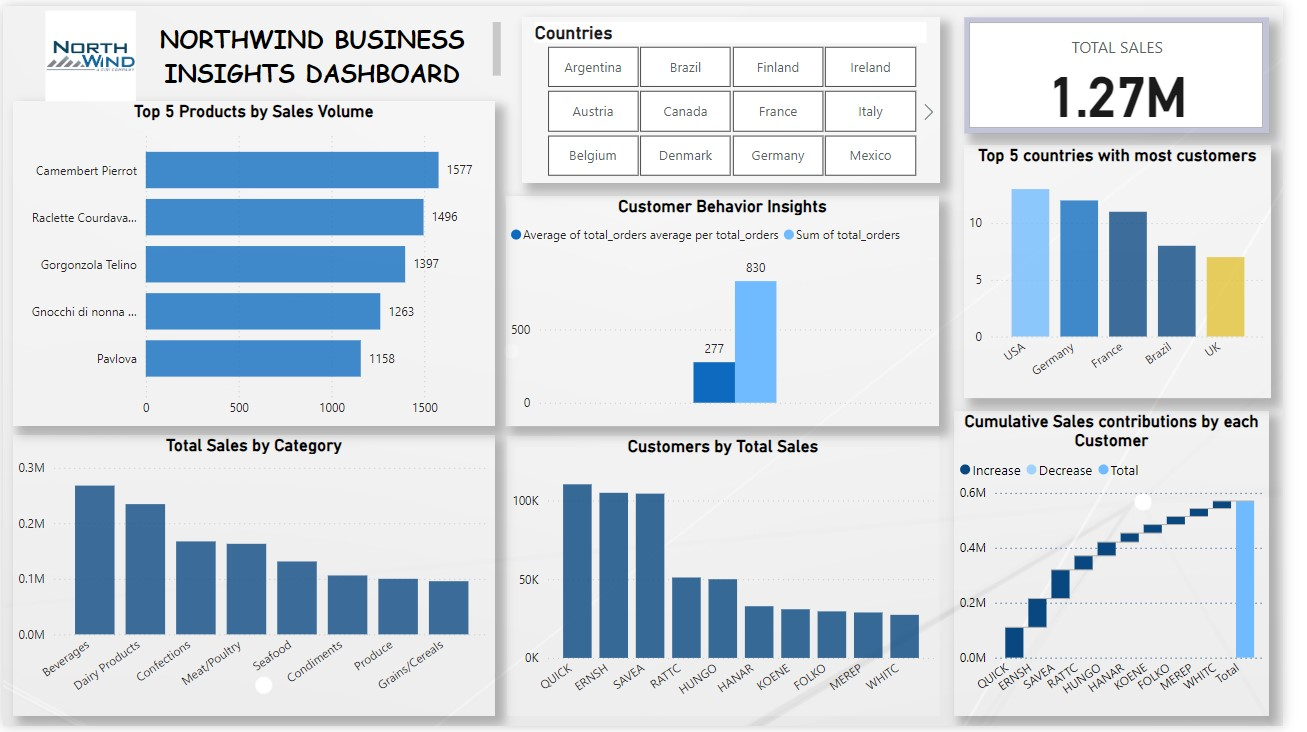

What the dashboard file says about the page in this screenshot:
{"tool":"powerbi","page":{"name":"Page 1","canvas":[1280,720],"ordinal":0},"visuals":[{"type":"cardVisual","title":"Total Sales","fields":{"Data":["Sum(total sales revenue by prod and category.total_sales)"]},"box":[961.1,11.5,304.6,116.4],"z":0},{"type":"barChart","title":"Top 5 Products by Sales Volume","fields":{"Category":["Top 5 Products by Sales Volume.product_name"],"Y":["Sum(Top 5 Products by Sales Volume.total_quantity_sold)"]},"box":[10,95.5,481.8,325],"z":1000},{"type":"columnChart","title":"Total Sales by Category","fields":{"Y":["Sum(total sales revenue by prod and category.total_sales)"],"Category":["total sales revenue by prod and category.category_name"]},"box":[10,429,481.8,280.8],"z":2000},{"type":"clusteredColumnChart","title":"Top 5 countries with most customers","fields":{"Y":["Sum(5 countries with most customers.customer_count)"],"Category":["5 countries with most customers.country"]},"box":[960.7,139.3,306.2,254],"z":3000},{"type":"clusteredColumnChart","title":"Customer Behavior Insights","fields":{"Y":["shipping cost and duration by the  shipper.Average of total_orders average per total_orders","Sum(shipping cost and duration by the  shipper.total_orders)"]},"box":[502.1,190.1,433.9,230.7],"z":4000},{"type":"slicer","fields":{"Values":["customers by countries.country"]},"box":[518.6,11.5,418,165.2],"z":5000},{"type":"clusteredColumnChart","title":" Customers by Total Sales","fields":{"Category":["top customers by sales valuee.customer_id"],"Y":["Sum(top customers by sales valuee.customer_sales)"]},"box":[504.2,429.5,432.4,280.1],"z":6000},{"type":"waterfallChart","title":"Cumulative Sales contributions by each Customer ","fields":{"Category":["top customers by sales valuee.customer_id"],"Y":["Sum(top customers by sales valuee.customer_sales)"]},"box":[951,405.1,314.6,304.6],"z":7000},{"type":"textbox","box":[133.9,10.9,369.2,77.2],"z":8000},{"type":"image","box":[0,0,174.9,100.1],"z":8001}]}

Visuals, with their boxes in screenshot pixels (x1, y1, x2, y2), scaled from the page's 1280x720 canvas onto the 1307x732 screenshot:
"Total Sales" cardVisual: bbox(981, 12, 1292, 130)
"Top 5 Products by Sales Volume" barChart: bbox(10, 97, 502, 428)
"Total Sales by Category" columnChart: bbox(10, 436, 502, 722)
"Top 5 countries with most customers" clusteredColumnChart: bbox(981, 142, 1294, 400)
"Customer Behavior Insights" clusteredColumnChart: bbox(513, 193, 956, 428)
slicer - customers by countries.country: bbox(530, 12, 956, 180)
" Customers by Total Sales" clusteredColumnChart: bbox(515, 437, 956, 721)
"Cumulative Sales contributions by each Customer " waterfallChart: bbox(971, 412, 1292, 722)
textbox: bbox(137, 11, 514, 90)
image: bbox(0, 0, 179, 102)
